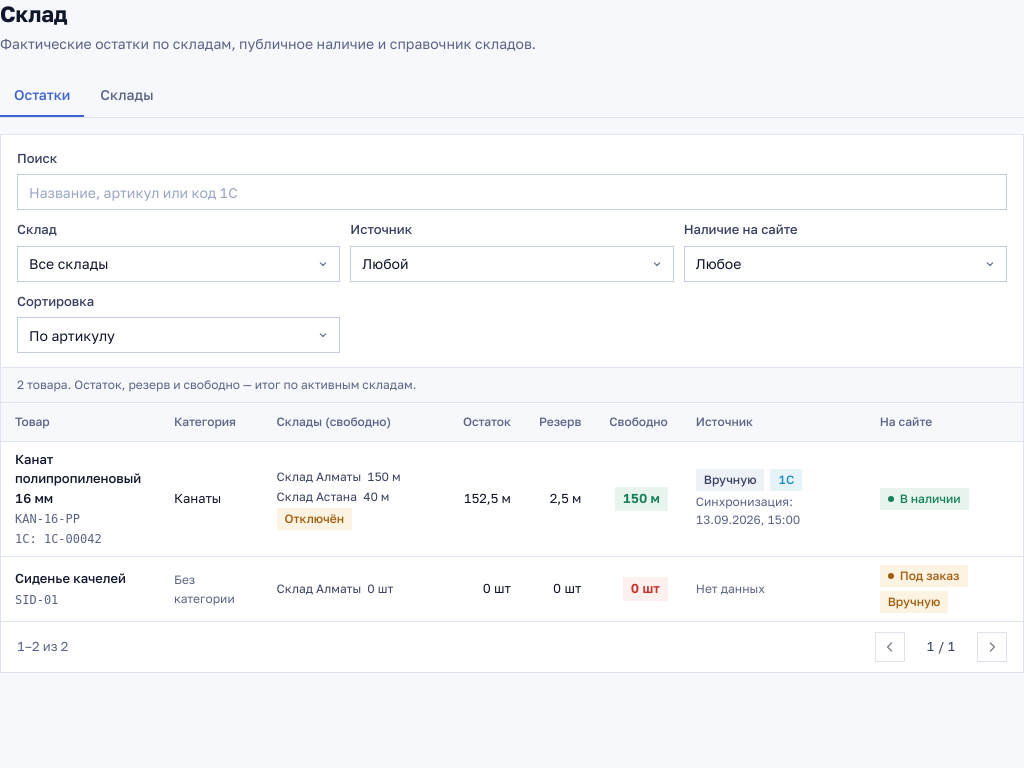
Test: правка остатков в панели › сохраняет только изменённый склад строками; показывает свободный остаток из ответа
Click the button "Канат полипропиленовый 16 мм": (80,479) [15,450,146,508]
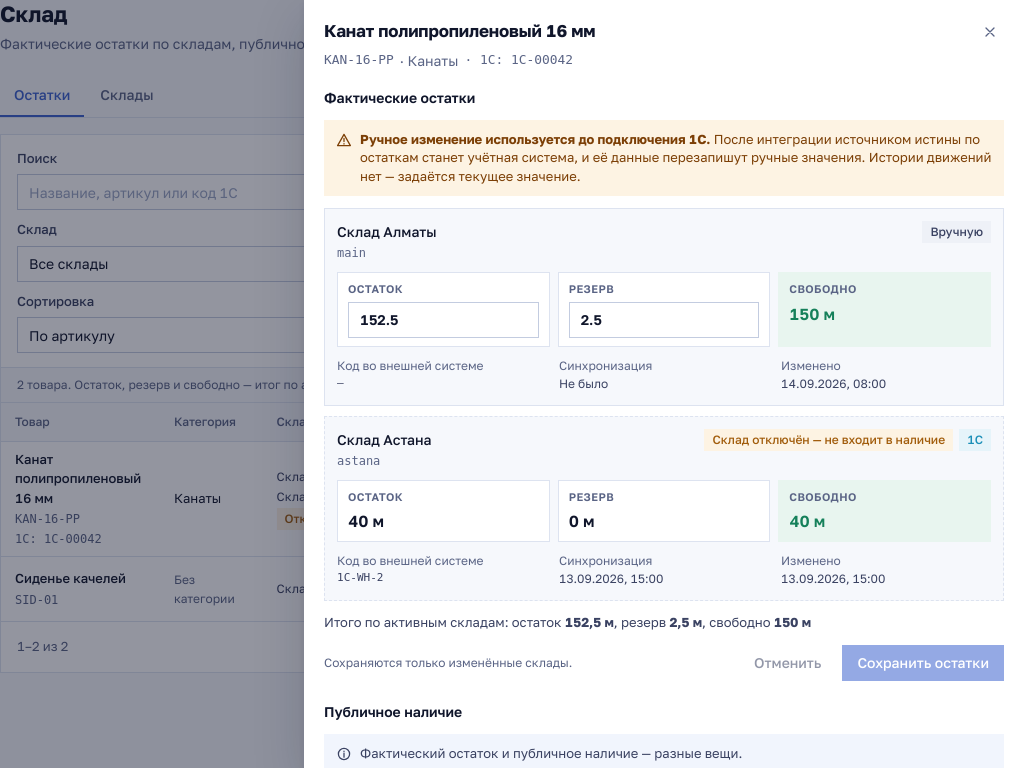
Expected: the text "Фактические остатки" is shown, [324,88,475,106]
Expected: the list item with aria-label "Склад «Склад Алматы»" is shown, [324,208,1004,406]
Replace the text in the 1st field named "Остаток, м" with "160,25": (443,320) [348,302,539,338]
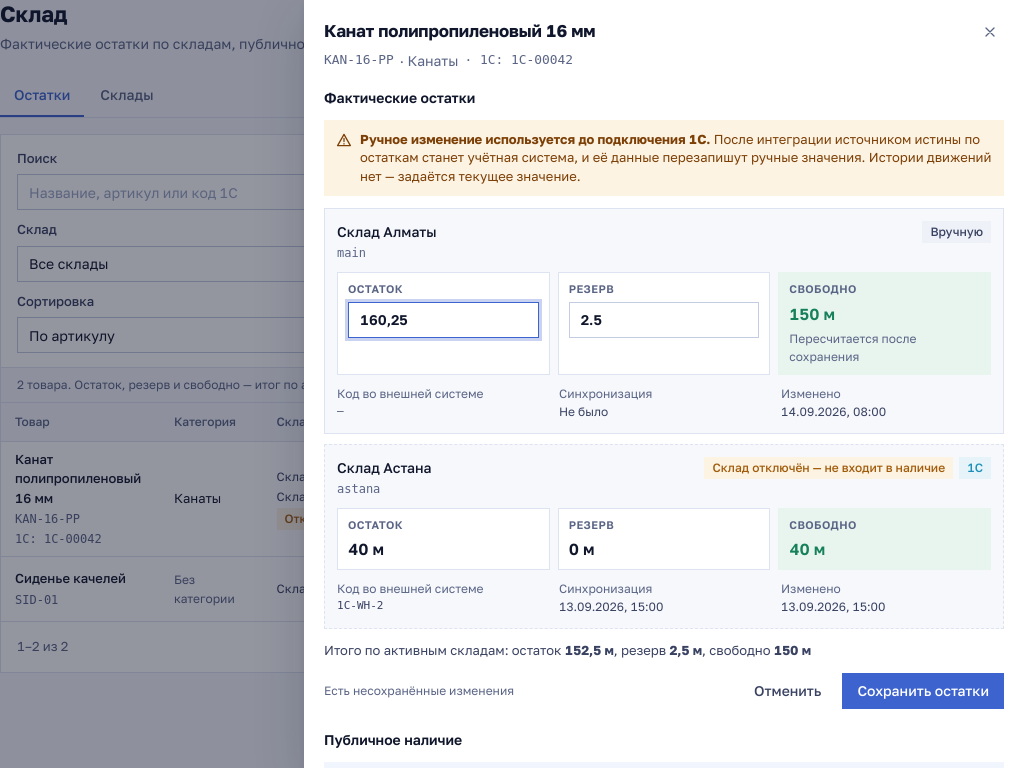
Replace the text in the 2nd field named "Резерв, м" with "10": (664,320) [569,302,759,338]
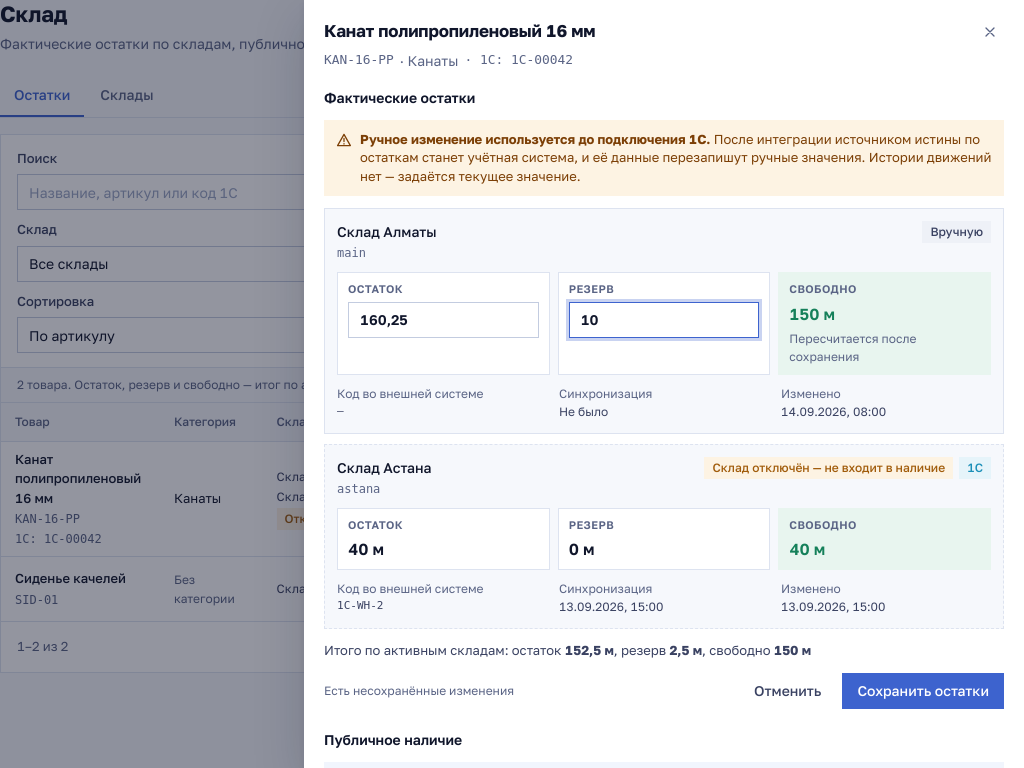
Expected: the text with test id "available-1" reads "150 м", [789,304,835,324]
Expected: the text "Пересчитается после сохранения" is shown, [789,330,916,364]
Click the button "Сохранить остатки": (923,690) [842,672,1004,708]
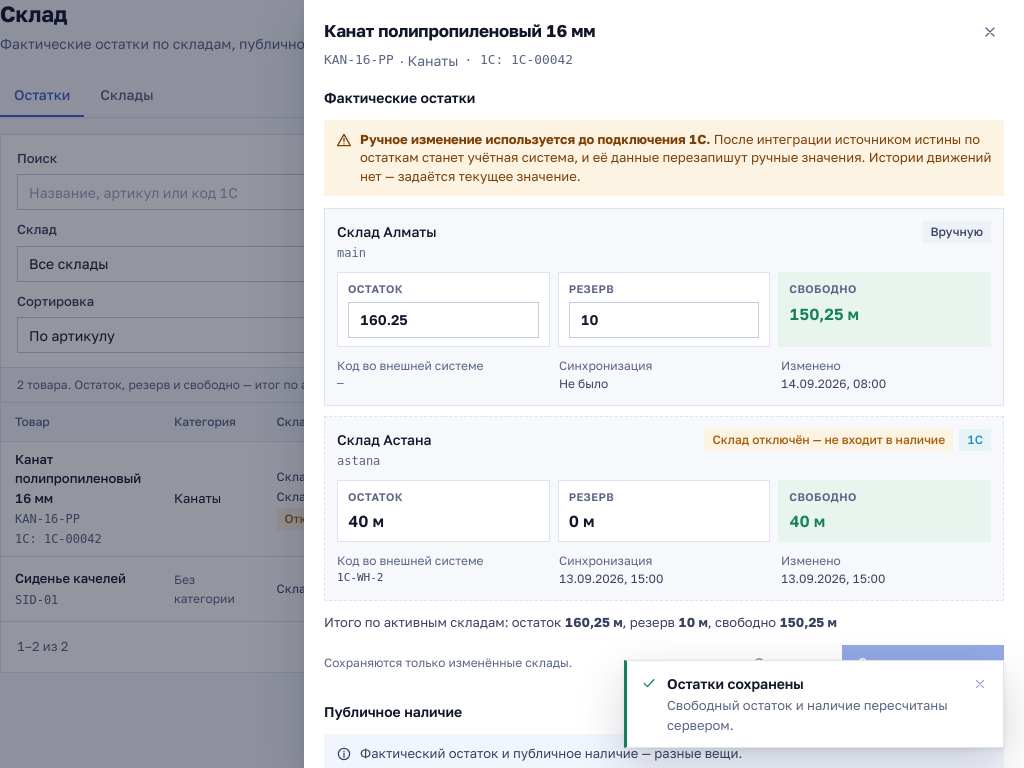
Expected: the text "Остатки сохранены" is shown, [667,675,804,692]
Expected: the text with test id "available-1" reads "150,25 м", [789,304,859,324]
Expected: the text with test id "total-available" reads "150,25 м", [779,614,837,630]
